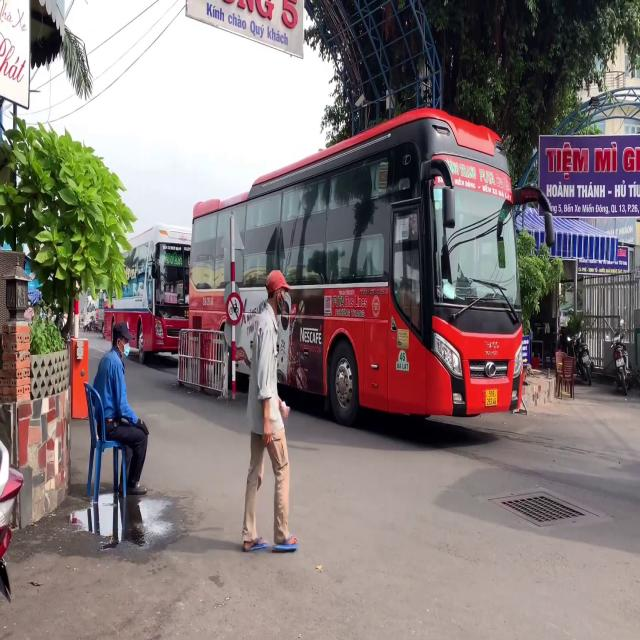bien_vang: (484, 388, 498, 407)
